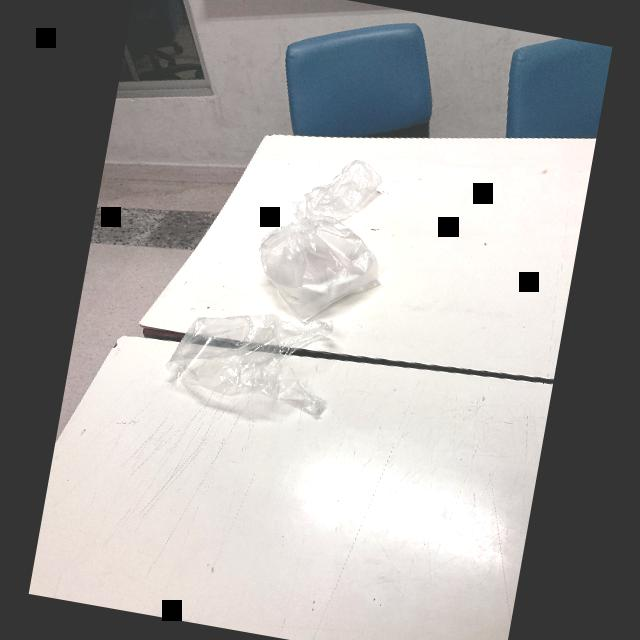plastic_bag: (157, 296, 360, 434), (240, 202, 402, 326)
scrap_paper: (290, 150, 378, 228)
